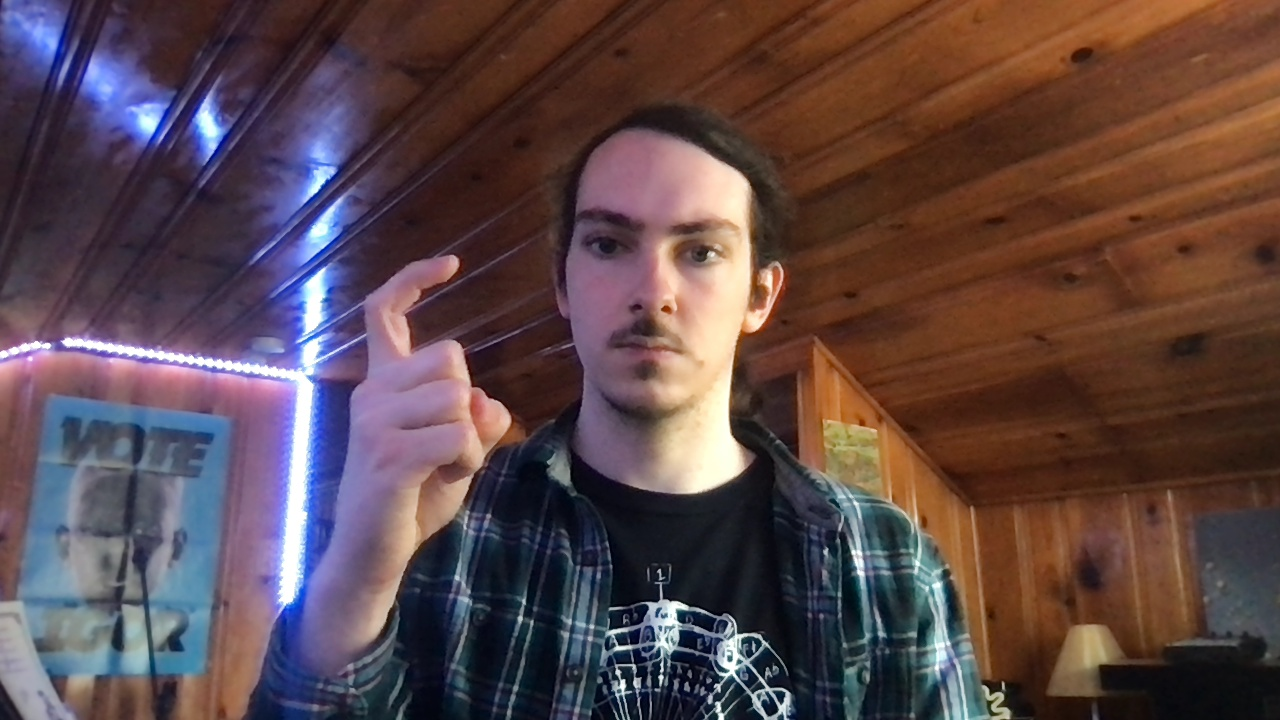x: (334, 253, 513, 584)
